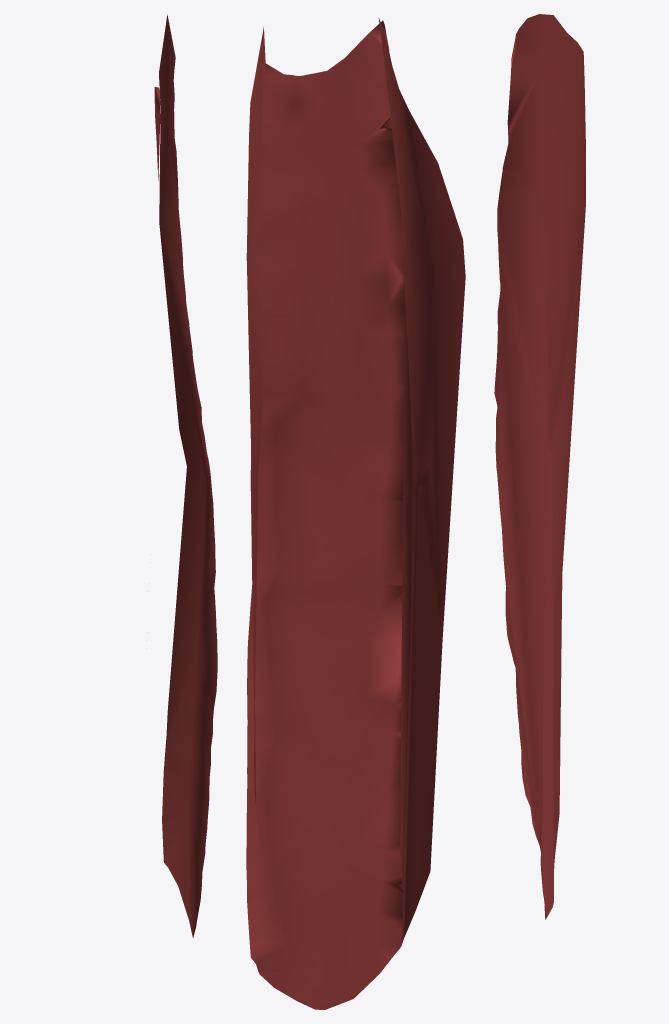
The model's file is tibialis-posterior-muscle-ol.glb.
3 renders of one model, left to right at view 1: azimuth 30°, elevation 25°; view 2: azimuth 150°, elevation 25°; view 3: azimuth 270°, elevation 25°, orthographic.
Visible parts, largest first — view 1: Tibialis posterior muscle.ol; view 2: Tibialis posterior muscle.ol; view 3: Tibialis posterior muscle.ol.
Boxes of the visible parts, x1=… form: Tibialis posterior muscle.ol: x1=154, y1=14, x2=217, y2=937; Tibialis posterior muscle.ol: x1=246, y1=18, x2=465, y2=1009; Tibialis posterior muscle.ol: x1=494, y1=14, x2=585, y2=919.
Size of the model in its own units: 0.0321 by 0.1427 by 0.021.
